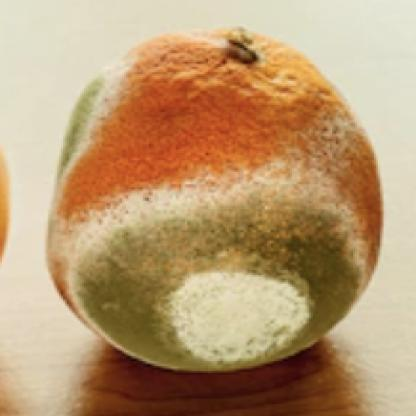rotten: (45, 26, 382, 373)
